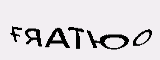А: (44, 27, 71, 50)
О: (132, 28, 153, 47)
Т: (66, 25, 84, 49)
Ю: (87, 29, 131, 51)
Я: (21, 27, 42, 47)
Ғ: (10, 24, 22, 43)
